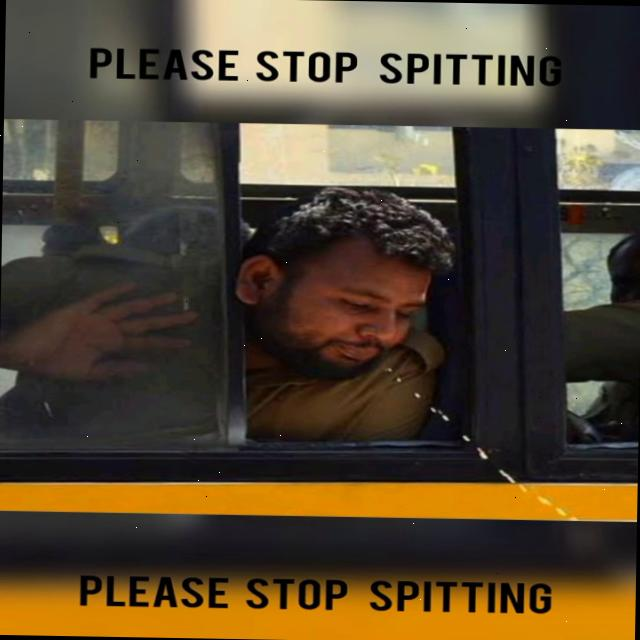spit: (177, 181, 636, 578)
